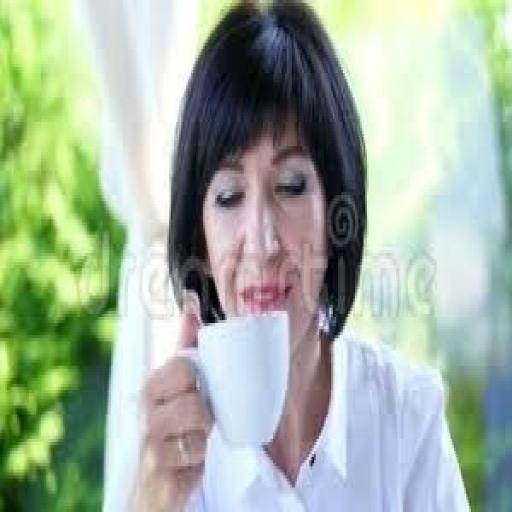drinking: (191, 308, 289, 448)
